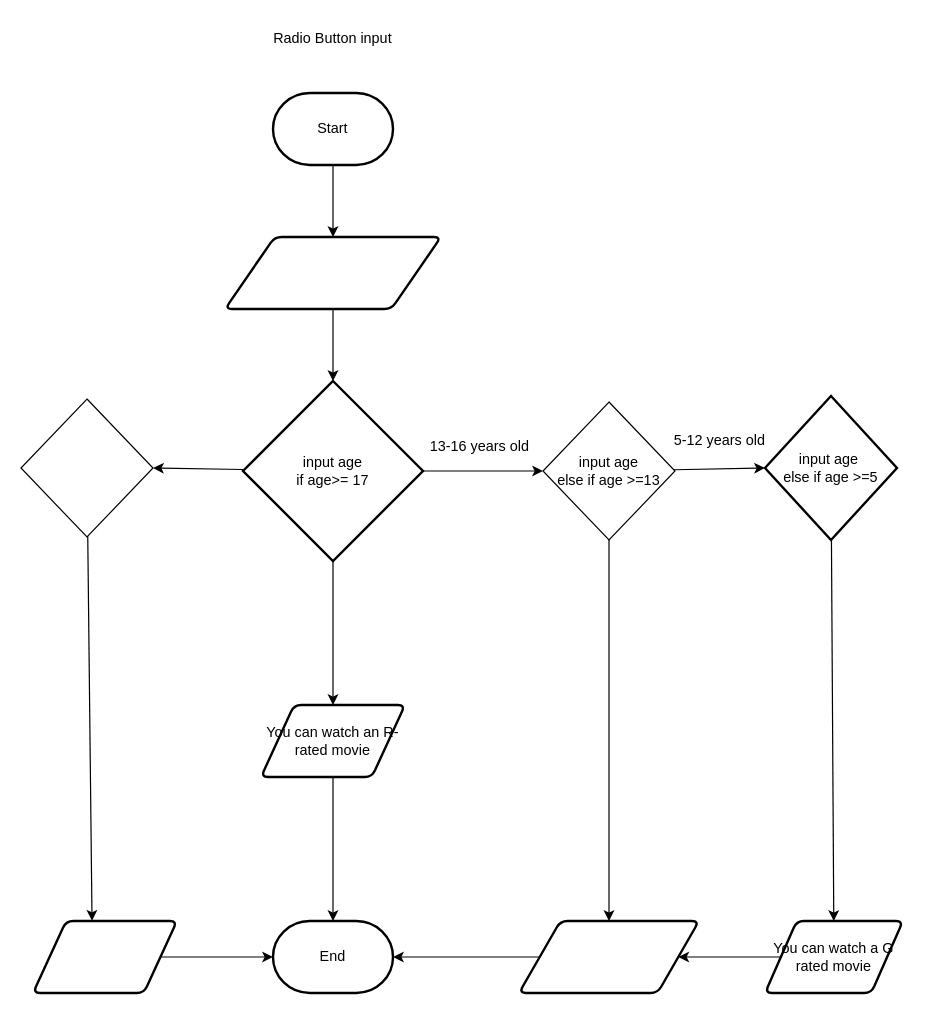
Some shapes in this 925 by 1014 pixel diagram are drawn without their labels. Here are the shapes that lost their labels. From the top down, the centre of each, then its label:
point 332,272: How old are you?
point 86,467: input age else
point 104,956: Too young
point 608,956: You can watch a PG-13 Movie
